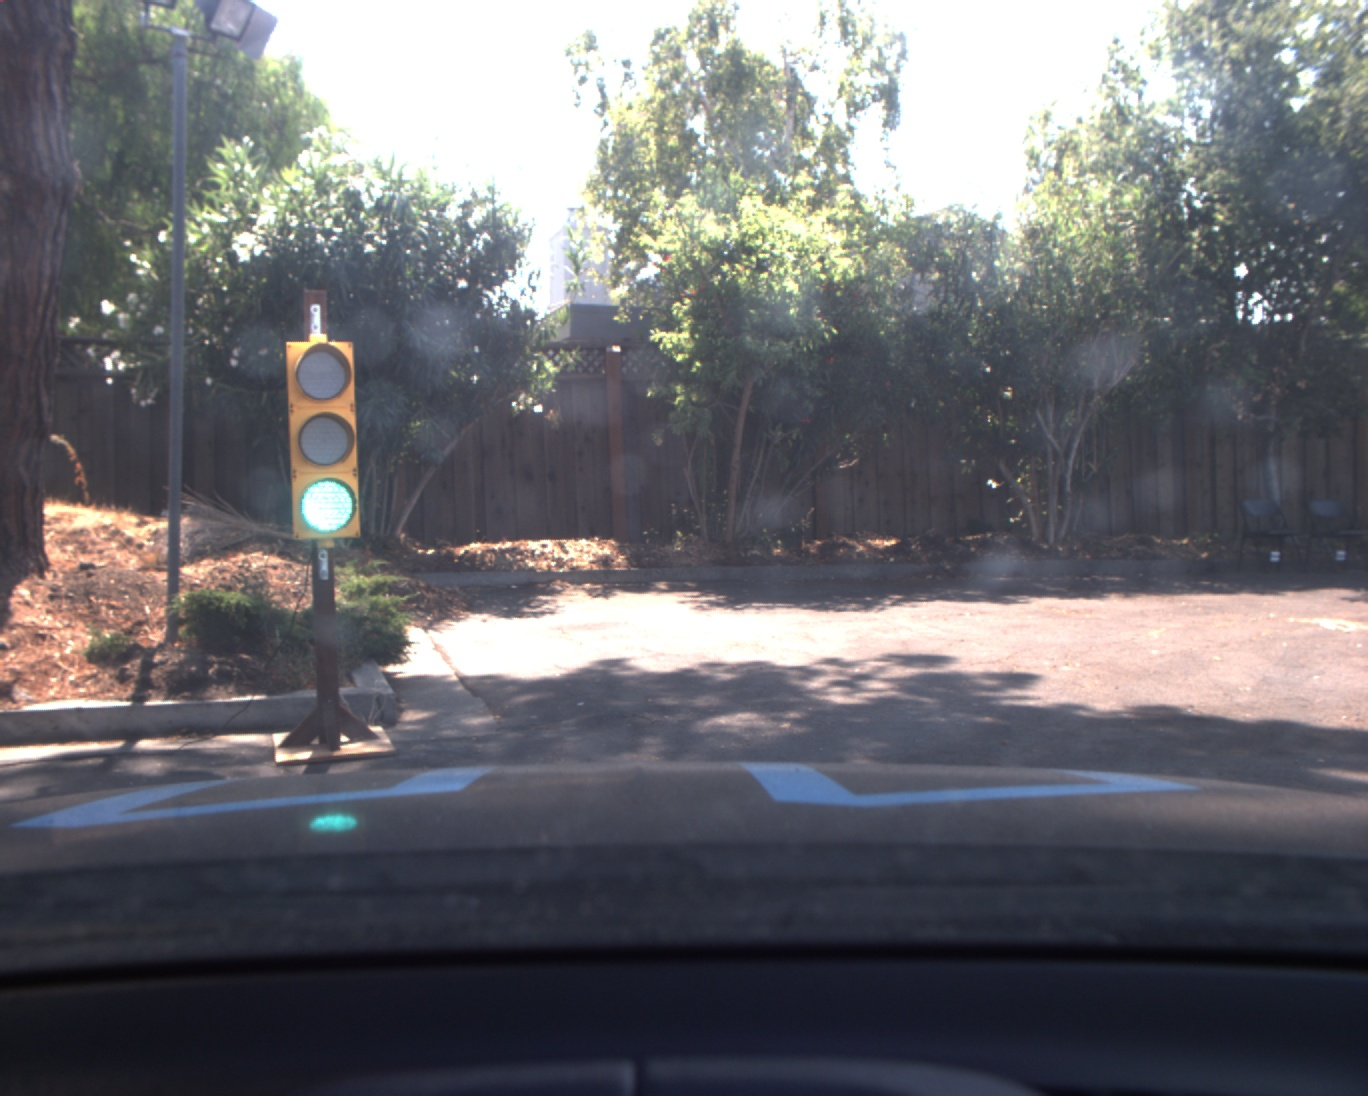green: (286, 341, 358, 538)
